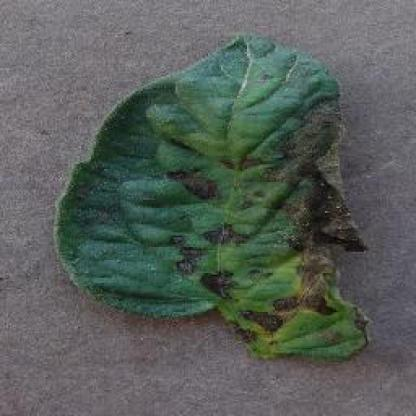Tomato_Blight: (56, 34, 370, 358)
